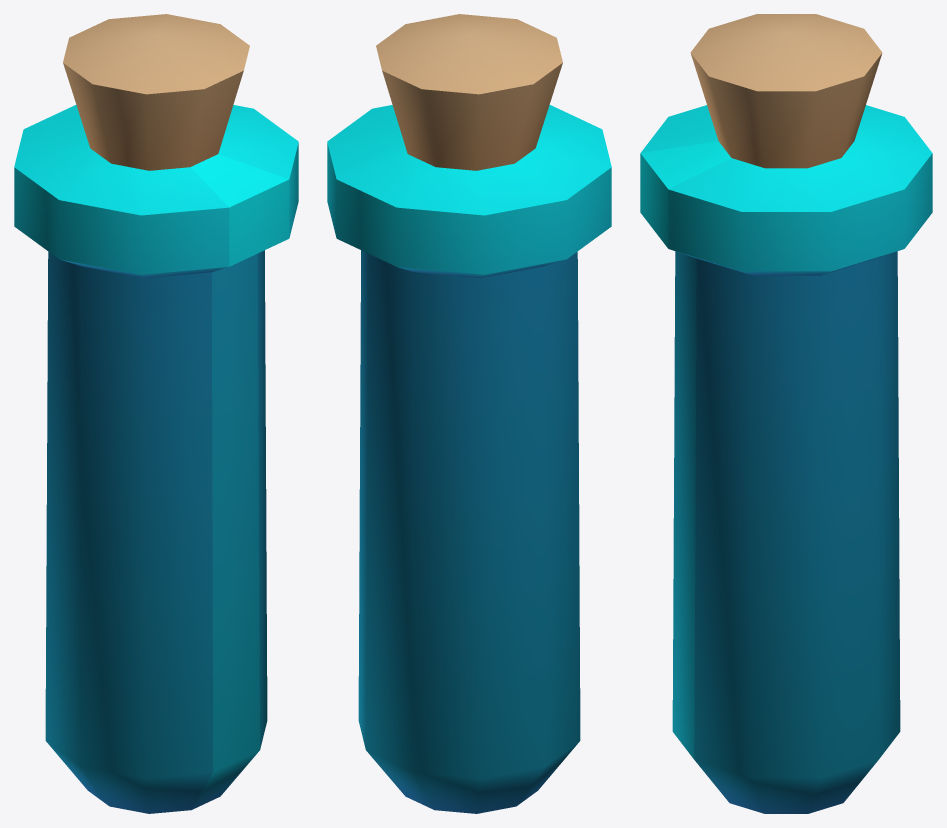
File: potion_small_blue.obj
3 views of the same model, side by side, from view 1: azimuth 30°, elevation 25°; view 2: azimuth 150°, elevation 25°; view 3: azimuth 270°, elevation 25° (orthographic).
Parts seen in each view (by area): view 1: potion_small_blue; view 2: potion_small_blue; view 3: potion_small_blue.
Boxes of the visible parts, <box> form: potion_small_blue: <box>14,14,298,813</box>; potion_small_blue: <box>327,14,611,813</box>; potion_small_blue: <box>640,14,932,813</box>.
Bounding box in the file's own units: 0.1512 × 0.464 × 0.1589.
1 material, 1 textured.
